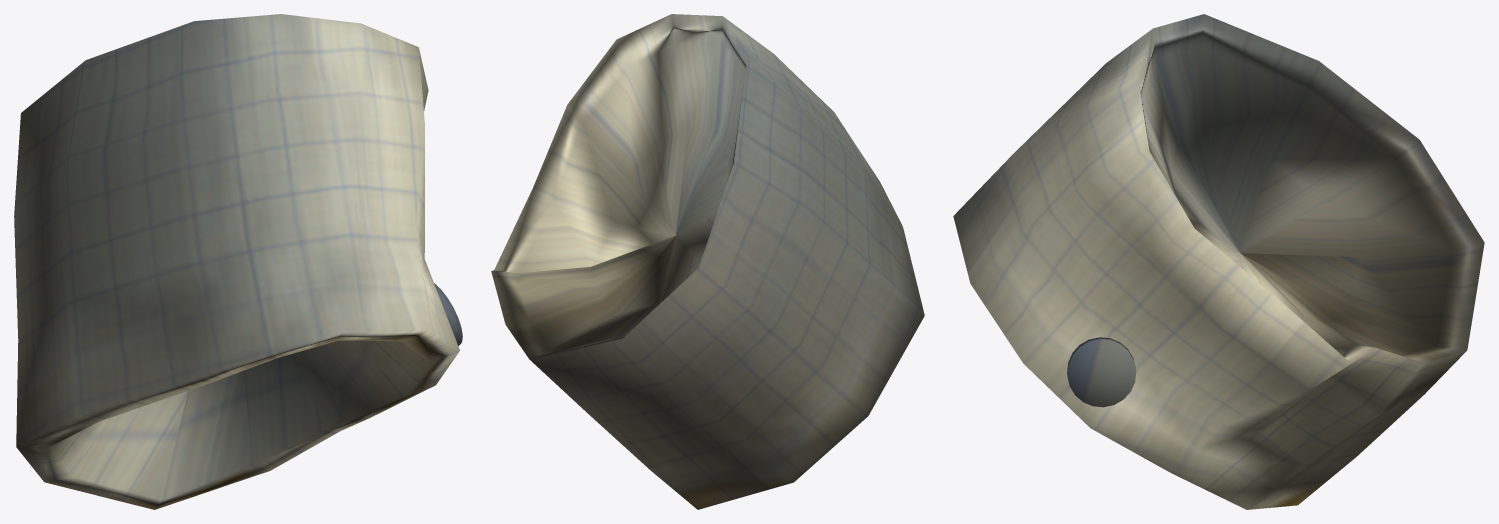
File: sleeve.fbx
3 renders of one model, left to right at view 1: azimuth 30°, elevation 25°; view 2: azimuth 150°, elevation 25°; view 3: azimuth 270°, elevation 25°, orthographic. The views are drawn at different scales.
Parts seen in each view (by area): view 1: RightArm; view 2: RightArm; view 3: RightArm.
Boxes of the visible parts, x1=… form: RightArm: x1=14, y1=14, x2=462, y2=509; RightArm: x1=491, y1=14, x2=924, y2=509; RightArm: x1=953, y1=14, x2=1484, y2=509.
Bounding box in the file's own units: 0.0778 × 0.0999 × 0.0965.
